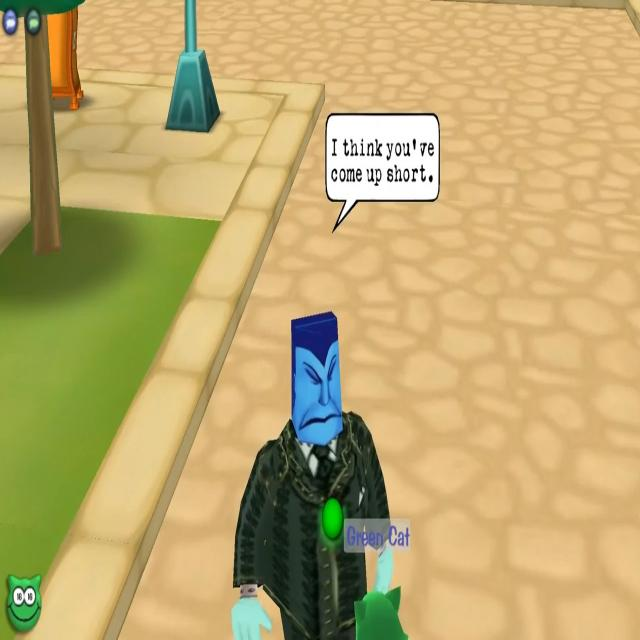shortchange: (226, 119, 447, 640)
